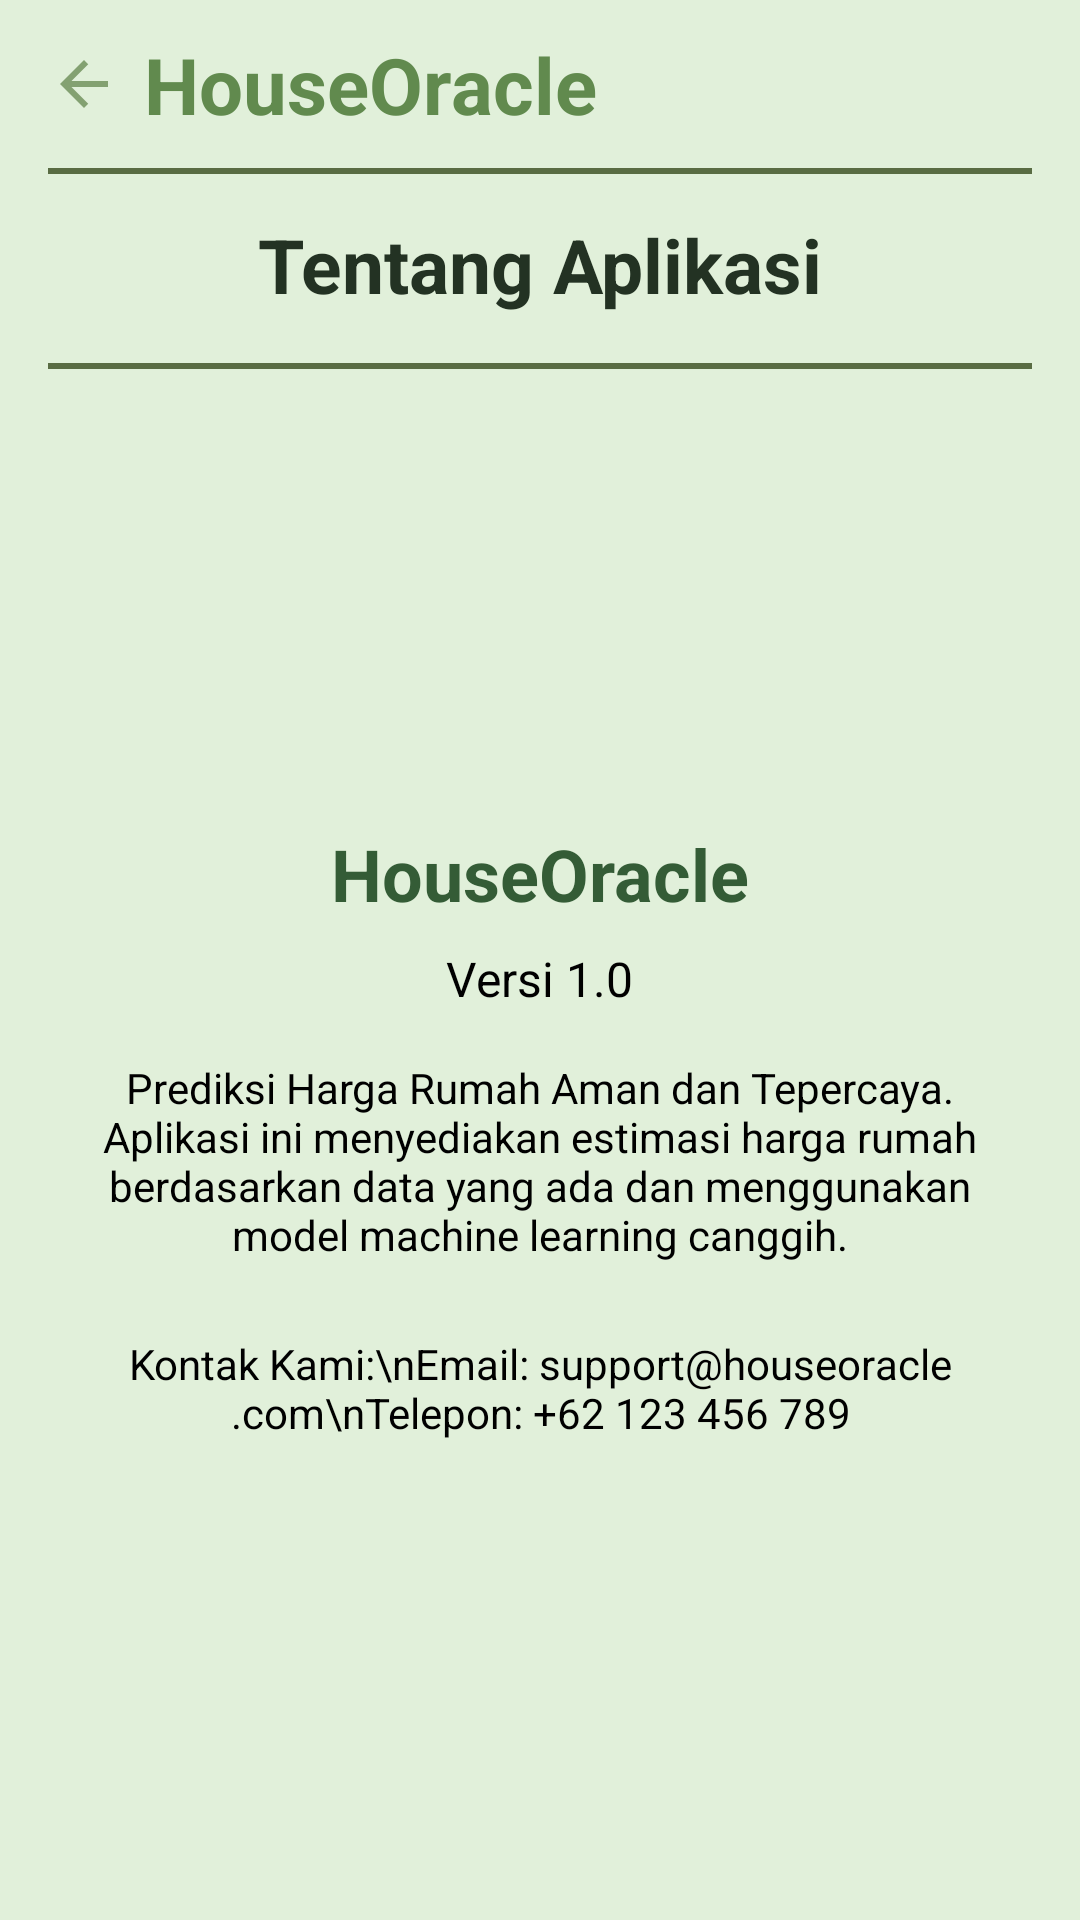

Screen size 1080*1920. Icon name, then its center in pixels as (x=x, y=y):
Kembali: (x=84, y=84)
